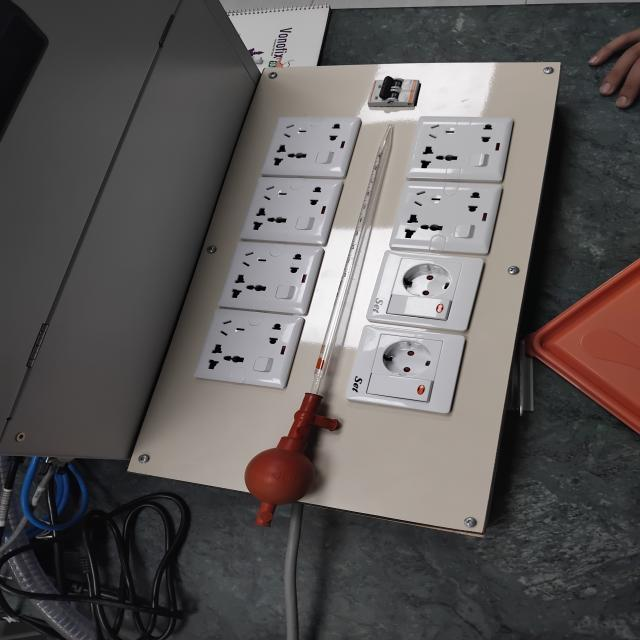Volumetric_Pipet: (200, 91, 437, 550)
